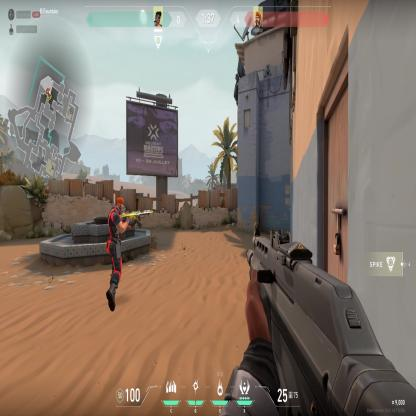enemy: (106, 192, 124, 313)
